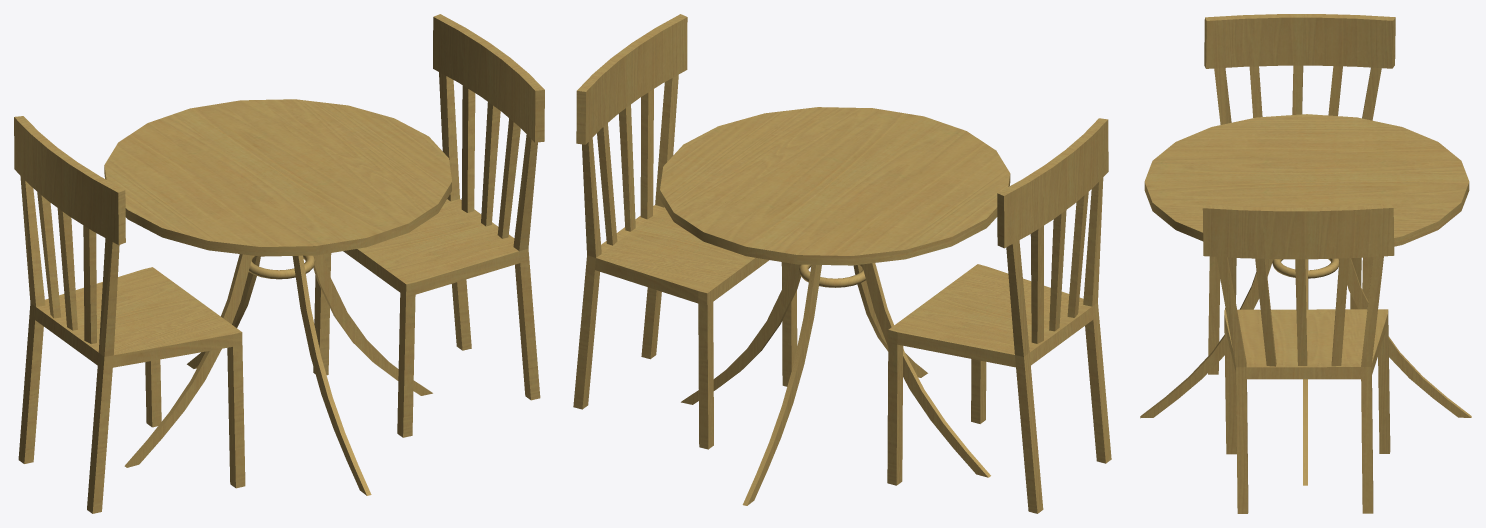
File: WoodenTable2.FBX
The picture shows the model from 3 angles, left to right: view 1: azimuth 30°, elevation 25°; view 2: azimuth 150°, elevation 25°; view 3: azimuth 270°, elevation 25°; orthographic projection. The views are drawn at different scales.
Parts seen in each view (by area): view 1: table, chair1, chair2; view 2: table, chair1, chair2; view 3: table, chair2, chair1.
Part boxes in pixels (x1=…): table: x1=104, y1=99, x2=451, y2=495; chair1: x1=14, y1=116, x2=245, y2=513; chair2: x1=313, y1=14, x2=544, y2=437; table: x1=660, y1=107, x2=1010, y2=505; chair1: x1=887, y1=118, x2=1111, y2=513; chair2: x1=573, y1=14, x2=797, y2=449; table: x1=1140, y1=114, x2=1471, y2=485; chair2: x1=1202, y1=204, x2=1394, y2=513; chair1: x1=1204, y1=14, x2=1395, y2=374.
Size of the model in its own units: 477 by 331 by 328.
Materials: 1 (1 with a texture image).
